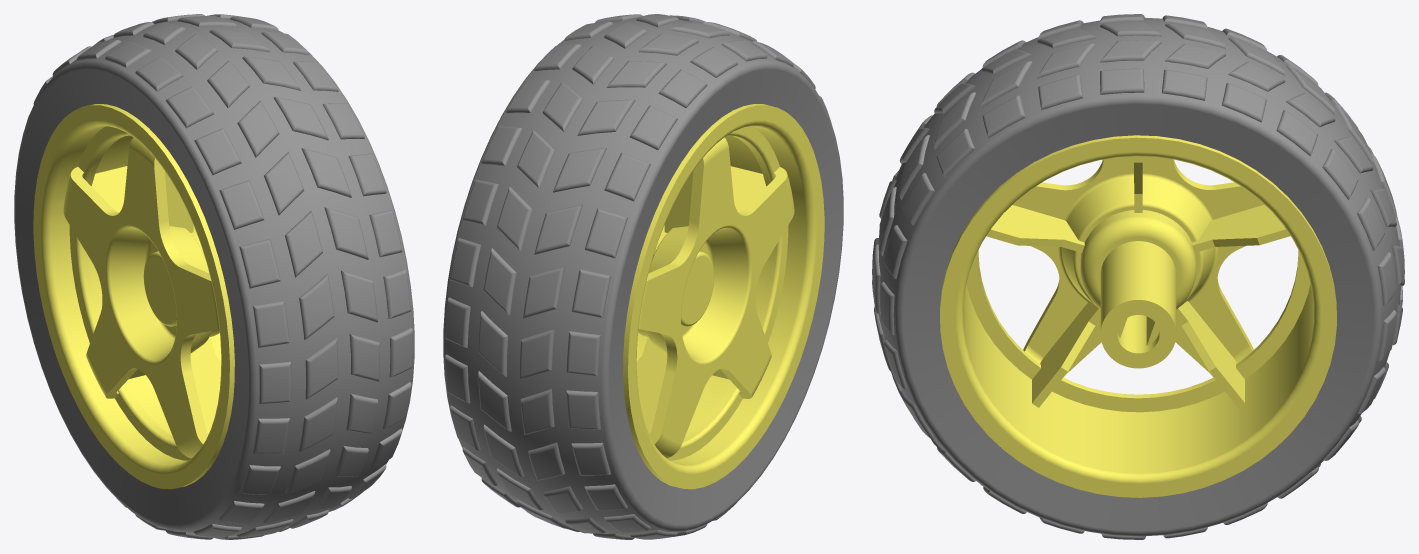
File: wheeldae.dae
The picture shows the model from 3 angles, left to right: view 1: azimuth 30°, elevation 25°; view 2: azimuth 150°, elevation 25°; view 3: azimuth 270°, elevation 25°; orthographic projection.
Parts seen in each view (by area): view 1: Wheel_R; view 2: Wheel_R; view 3: Wheel_R.
Boxes of the visible parts, <box> form: Wheel_R: <box>14,14,414,539</box>; Wheel_R: <box>443,14,843,539</box>; Wheel_R: <box>872,14,1404,539</box>.
Bounding box in the file's own units: 0.03 × 0.0689 × 0.0689.
